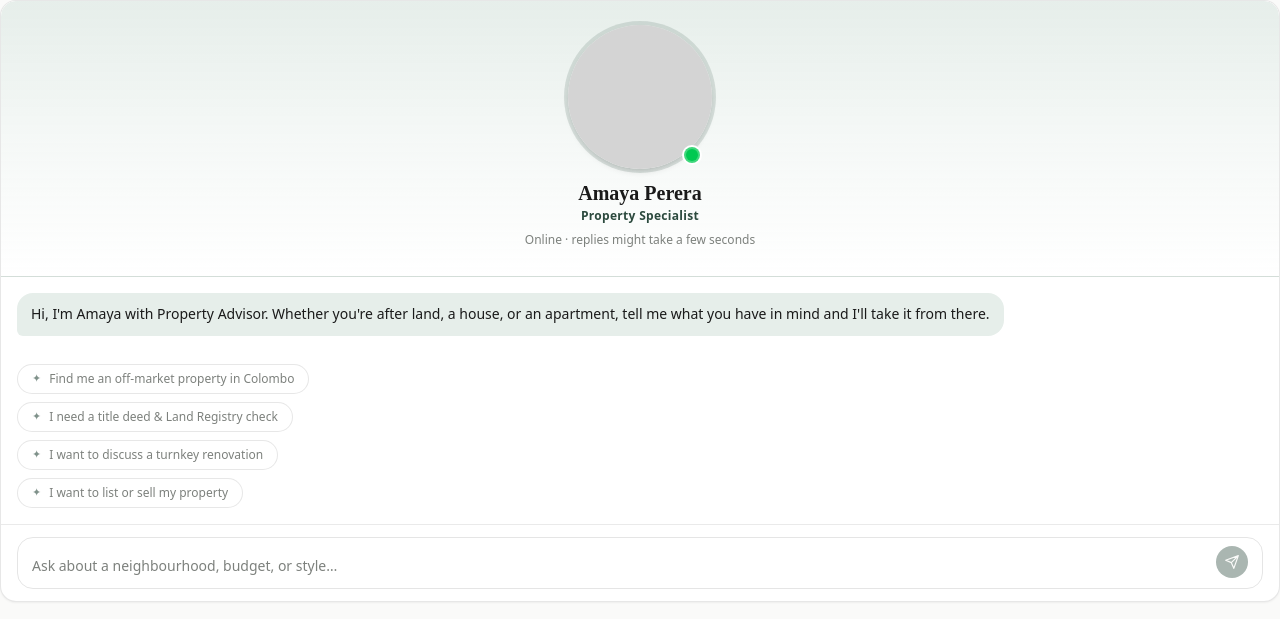
Test case: suggestion chips › hides the chips once the first message has been sent
Expected: the button "Find me an off-market property in Colombo" is shown, [17,364,310,394]
Type "Hello" into the text box named "Ask Amaya" at (620, 566), box [32,553,1208,580]
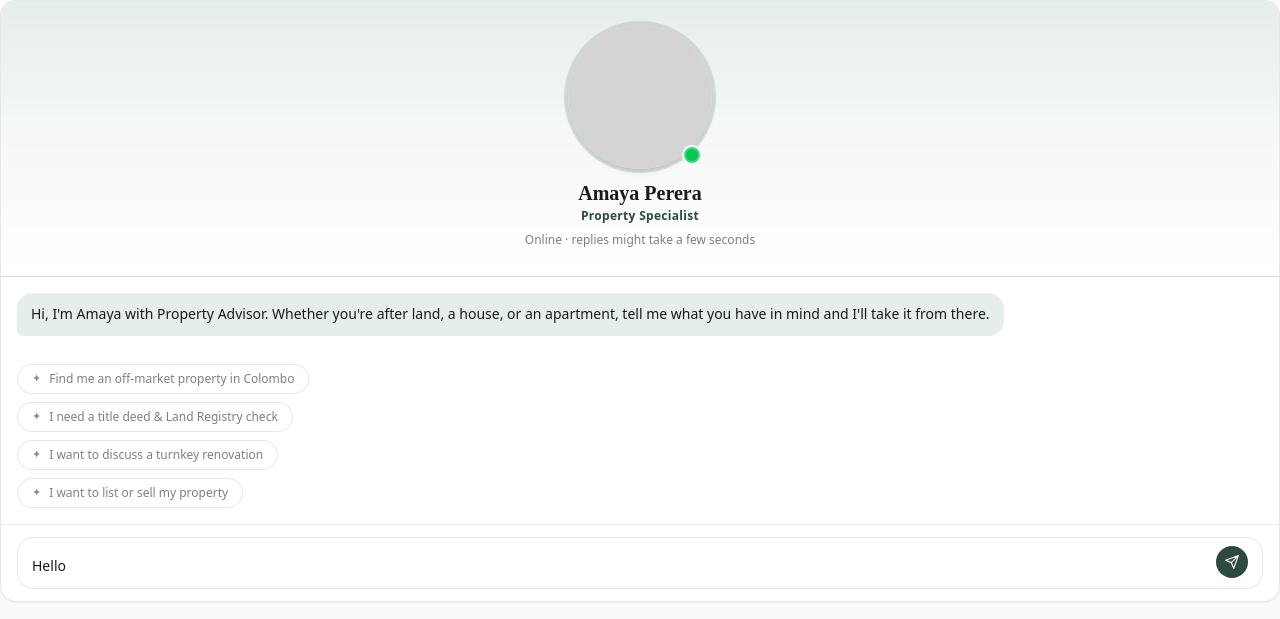
Submit the form named "Ask Amaya", box [17,537,1263,589]
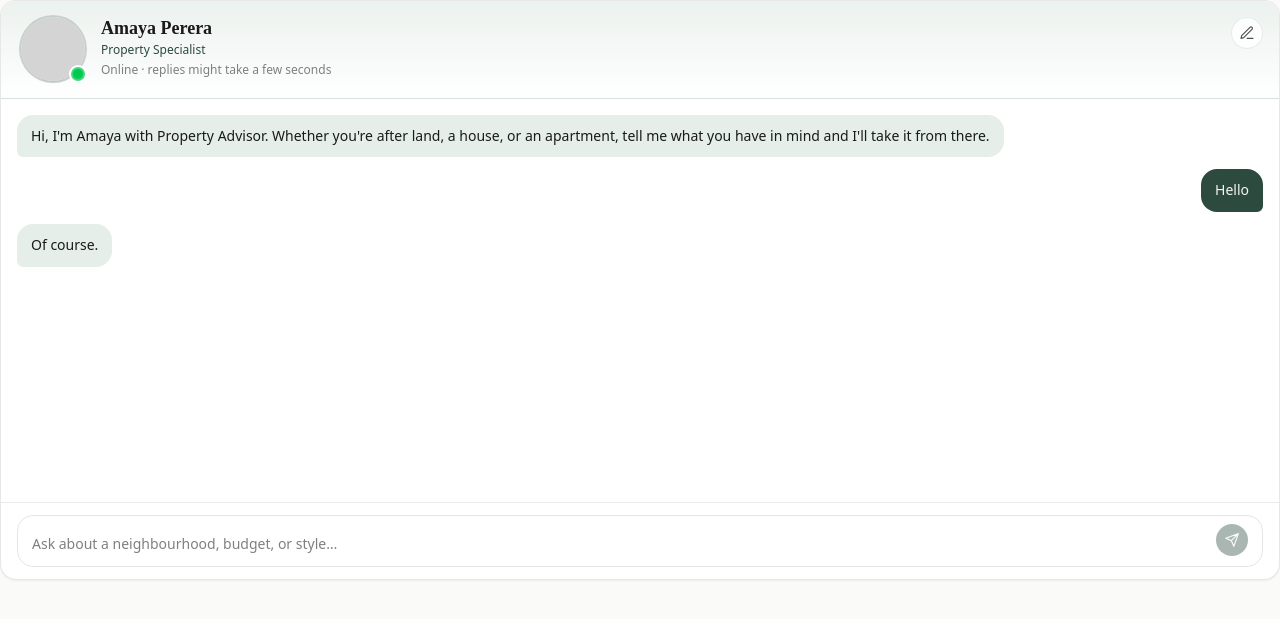
Expected: the button "Find me an off-market property in Colombo" is gone
Expected: the button "I need a title deed & Land Registry check" is gone
Expected: the button "I want to discuss a turnkey renovation" is gone
